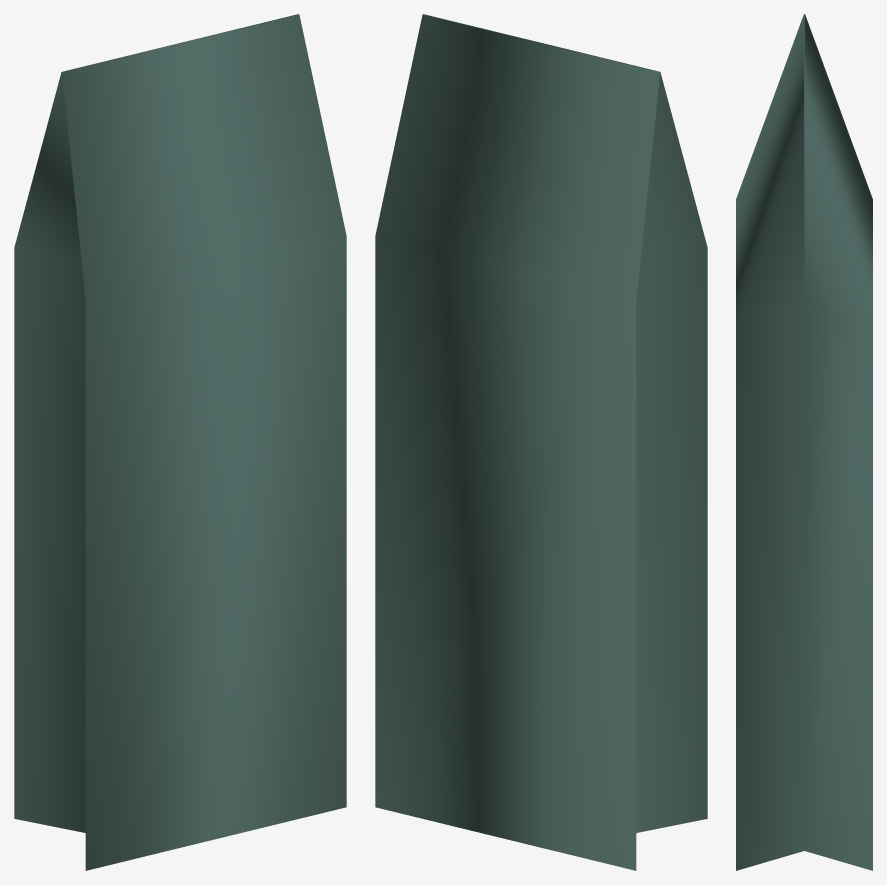
File: coffee-bag.glb
The picture shows the model from 3 angles, left to right: view 1: azimuth 30°, elevation 25°; view 2: azimuth 150°, elevation 25°; view 3: azimuth 270°, elevation 25°; orthographic projection. The views are drawn at different scales.
Parts seen in each view (by area): view 1: BagBody; view 2: BagBody; view 3: BagBody.
Boxes of the visible parts, x1=… form: BagBody: x1=14, y1=14, x2=346, y2=870; BagBody: x1=375, y1=14, x2=707, y2=870; BagBody: x1=736, y1=14, x2=872, y2=870.
Bounding box in the file's own units: 0.55 × 1.55 × 0.26.
